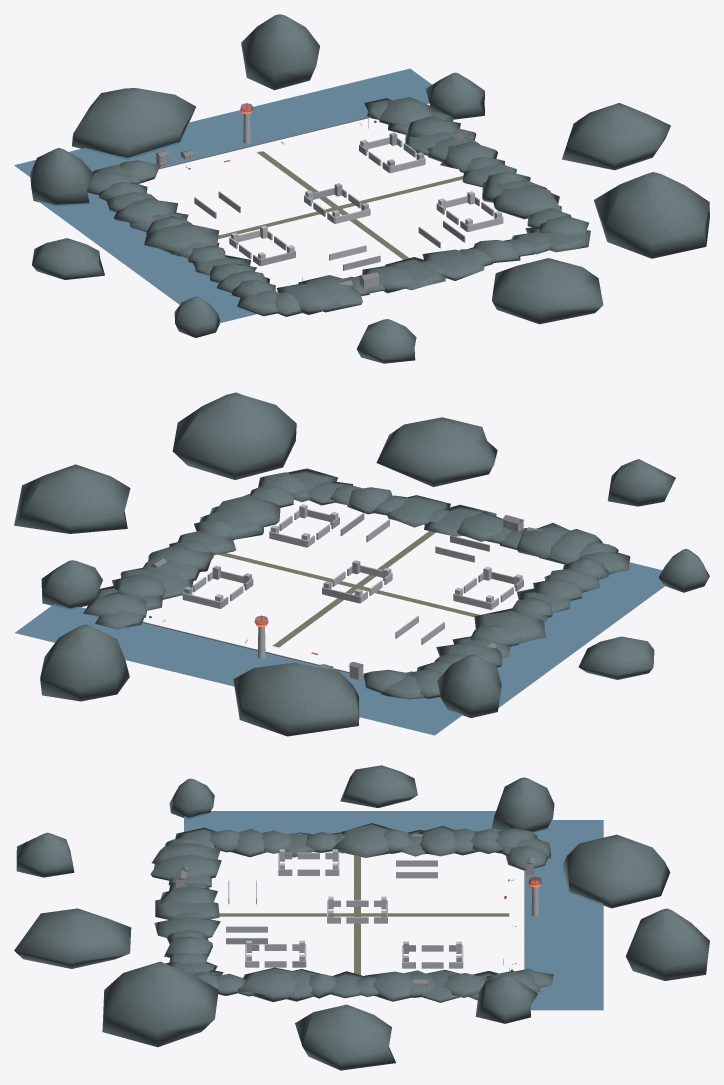
Rendered from misaki-lod2.glb.
The picture shows the model from 3 angles, top to bottom: view 1: azimuth 30°, elevation 25°; view 2: azimuth 150°, elevation 25°; view 3: azimuth 270°, elevation 25°; orthographic projection. The views are drawn at different scales.
Parts seen in each view (by area): view 1: HB_misaki_LOD2_terrain, HB_misaki_LOD2_water, HB_misaki_LOD2_wall, HB_misaki_LOD2_wall_alt, HB_misaki_LOD2_road, HB_misaki_LOD2_trim; view 2: HB_misaki_LOD2_terrain, HB_misaki_LOD2_water, HB_misaki_LOD2_wall, HB_misaki_LOD2_wall_alt, HB_misaki_LOD2_road, HB_misaki_LOD2_trim; view 3: HB_misaki_LOD2_terrain, HB_misaki_LOD2_water, HB_misaki_LOD2_wall, HB_misaki_LOD2_road, HB_misaki_LOD2_wall_alt, HB_misaki_LOD2_trim.
Boxes of the visible parts, x1,y1,x2,y2 form: HB_misaki_LOD2_terrain: (30, 14, 709, 363); HB_misaki_LOD2_water: (14, 68, 431, 323); HB_misaki_LOD2_wall: (188, 113, 503, 260); HB_misaki_LOD2_wall_alt: (156, 132, 479, 288); HB_misaki_LOD2_road: (218, 151, 463, 259); HB_misaki_LOD2_trim: (141, 103, 467, 285); HB_misaki_LOD2_terrain: (14, 392, 709, 736); HB_misaki_LOD2_water: (15, 562, 665, 735); HB_misaki_LOD2_wall: (182, 504, 522, 658); HB_misaki_LOD2_wall_alt: (151, 513, 523, 680); HB_misaki_LOD2_road: (218, 531, 479, 647); HB_misaki_LOD2_trim: (131, 515, 551, 676); HB_misaki_LOD2_terrain: (14, 765, 709, 1070); HB_misaki_LOD2_water: (184, 811, 603, 1010); HB_misaki_LOD2_wall: (226, 849, 538, 968); HB_misaki_LOD2_road: (219, 855, 509, 974); HB_misaki_LOD2_wall_alt: (176, 852, 538, 985); HB_misaki_LOD2_trim: (175, 833, 538, 983).
Bounding box in the file's own units: 635 × 54.41 × 630.
10 materials, 7 textured.
